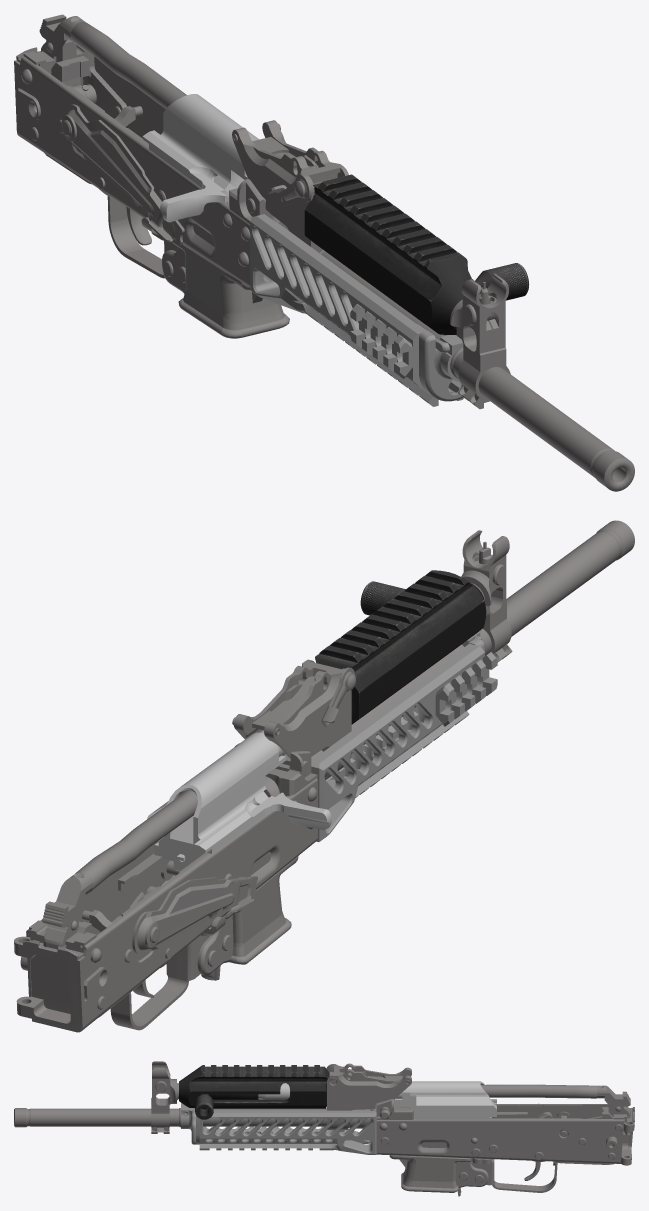
File: weapon_izhmash_saiga_9_9x19_model (merge).fbx
3 views of the same model, one above another, from view 1: azimuth 30°, elevation 25°; view 2: azimuth 150°, elevation 25°; view 3: azimuth 270°, elevation 25° (orthographic). The views are drawn at different scales.
Parts seen in each view (by area): view 1: weapon_izhmash_saiga_9_9x19_LOD0, gas_block_pp-19-01_vector_vr_lps_p_LOD0, handguard_ak_zenit_b10_LOD0, saiga9_bolt_LOD0, weapon_izhmash_saiga_9_9x19_barrel_LOD0, saiga9_selector_LOD0, saiga9_spring_LOD0, weapon_izhmash_pp-19-01_kolodka_LOD0, gas_block_pp-19-01_vector_vr_lps_p_bolt_LOD0, saiga9_stock_release_LOD0; view 2: weapon_izhmash_saiga_9_9x19_LOD0, handguard_ak_zenit_b10_LOD0, gas_block_pp-19-01_vector_vr_lps_p_LOD0, saiga9_bolt_LOD0, weapon_izhmash_saiga_9_9x19_barrel_LOD0, saiga9_selector_LOD0, saiga9_spring_LOD0, gas_block_pp-19-01_vector_vr_lps_p_bolt_LOD0; view 3: weapon_izhmash_saiga_9_9x19_LOD0, handguard_ak_zenit_b10_LOD0, gas_block_pp-19-01_vector_vr_lps_p_LOD0, saiga9_bolt_LOD0, weapon_izhmash_saiga_9_9x19_barrel_LOD0, saiga9_spring_LOD0, gas_block_pp-19-01_vector_vr_lps_p_bolt_LOD0, weapon_izhmash_pp-19-01_kolodka_LOD0.
Part boxes in pixels (bbox=[...]): weapon_izhmash_saiga_9_9x19_LOD0: bbox=[14, 14, 510, 409]; gas_block_pp-19-01_vector_vr_lps_p_LOD0: bbox=[304, 174, 481, 334]; handguard_ak_zenit_b10_LOD0: bbox=[250, 214, 463, 406]; saiga9_bolt_LOD0: bbox=[142, 94, 259, 222]; weapon_izhmash_saiga_9_9x19_barrel_LOD0: bbox=[478, 367, 634, 491]; saiga9_selector_LOD0: bbox=[61, 104, 184, 245]; saiga9_spring_LOD0: bbox=[70, 22, 186, 108]; weapon_izhmash_pp-19-01_kolodka_LOD0: bbox=[419, 330, 463, 401]; gas_block_pp-19-01_vector_vr_lps_p_bolt_LOD0: bbox=[475, 263, 529, 300]; saiga9_stock_release_LOD0: bbox=[16, 84, 96, 119]; weapon_izhmash_saiga_9_9x19_LOD0: bbox=[14, 530, 512, 1032]; handguard_ak_zenit_b10_LOD0: bbox=[311, 643, 497, 841]; gas_block_pp-19-01_vector_vr_lps_p_LOD0: bbox=[315, 570, 486, 724]; saiga9_bolt_LOD0: bbox=[147, 730, 331, 871]; weapon_izhmash_saiga_9_9x19_barrel_LOD0: bbox=[506, 520, 634, 636]; saiga9_selector_LOD0: bbox=[132, 876, 257, 955]; saiga9_spring_LOD0: bbox=[75, 790, 197, 892]; gas_block_pp-19-01_vector_vr_lps_p_bolt_LOD0: bbox=[360, 581, 405, 615]; weapon_izhmash_saiga_9_9x19_LOD0: bbox=[151, 1061, 634, 1192]; handguard_ak_zenit_b10_LOD0: bbox=[199, 1103, 376, 1154]; gas_block_pp-19-01_vector_vr_lps_p_LOD0: bbox=[179, 1065, 329, 1108]; saiga9_bolt_LOD0: bbox=[258, 1081, 496, 1119]; weapon_izhmash_saiga_9_9x19_barrel_LOD0: bbox=[14, 1108, 151, 1127]; saiga9_spring_LOD0: bbox=[481, 1084, 597, 1098]; gas_block_pp-19-01_vector_vr_lps_p_bolt_LOD0: bbox=[195, 1094, 258, 1119]; weapon_izhmash_pp-19-01_kolodka_LOD0: bbox=[181, 1103, 200, 1144].
Size of what is drawn, in the model's own units: 0.087 by 0.1249 by 0.5406.
